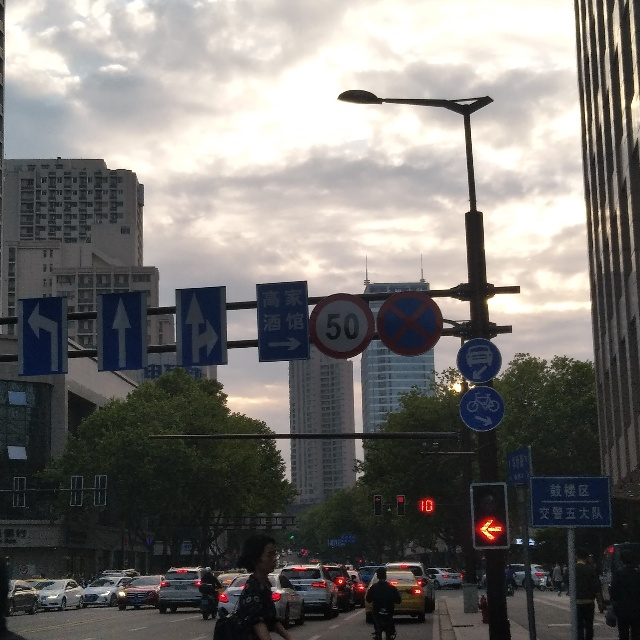left: (20, 300, 66, 372)
stop: (382, 294, 440, 352)
straight: (96, 296, 142, 372)
